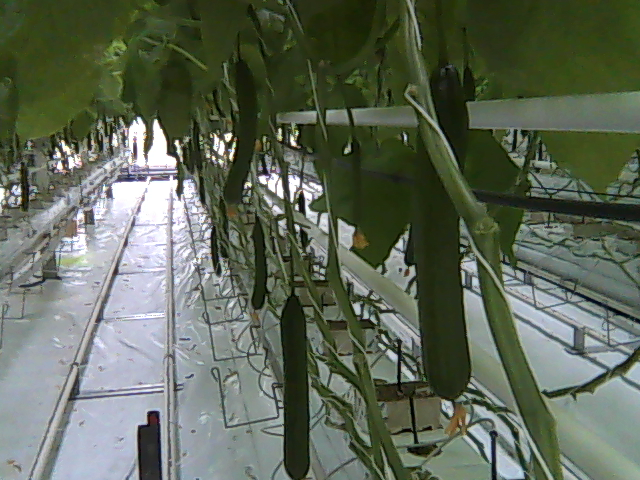concombre: (409, 60, 476, 439), (278, 280, 310, 480)
